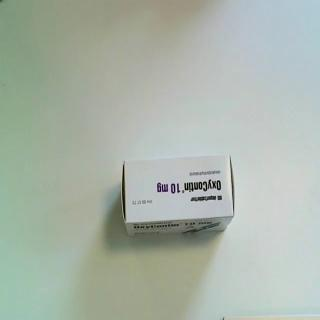oxynorm10mg: (121, 152, 236, 237)
